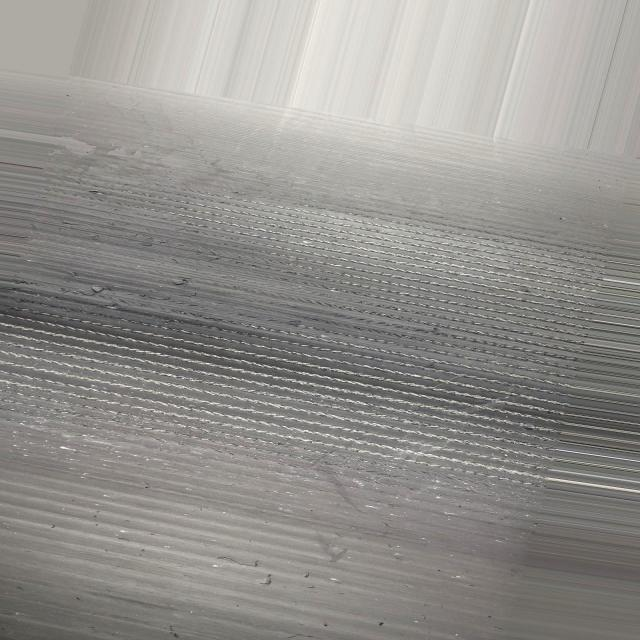Wear: (6, 174, 640, 507)
